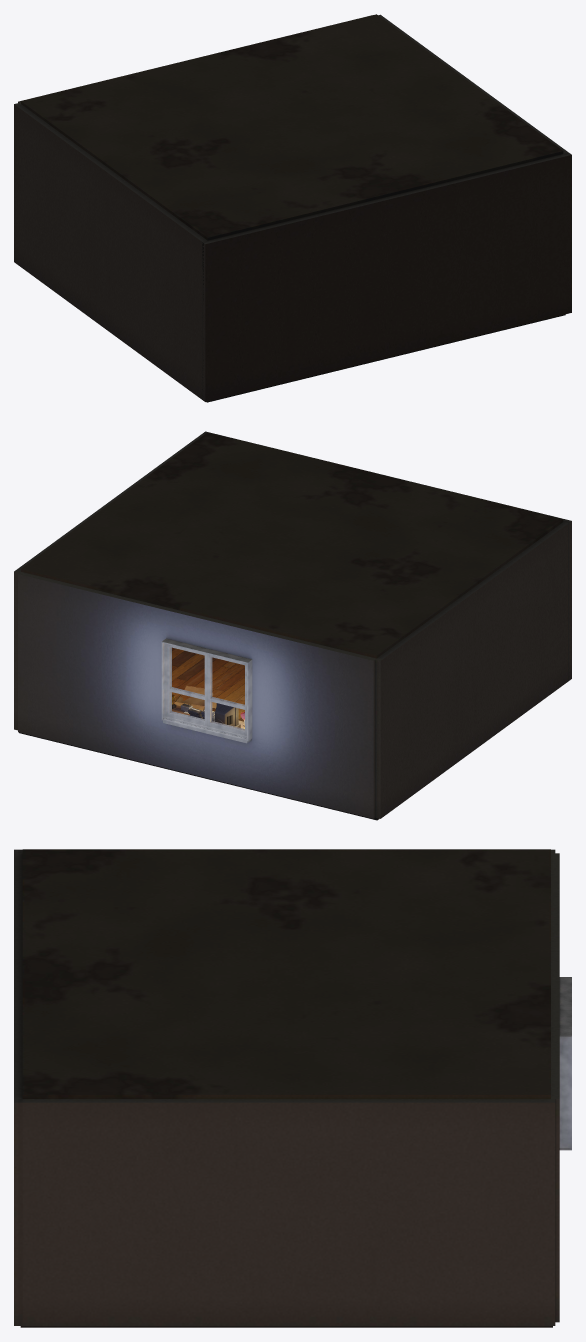
The model's file is sakina-room-gpu1.glb.
3 views of the same model, one above another, from view 1: azimuth 30°, elevation 25°; view 2: azimuth 150°, elevation 25°; view 3: azimuth 270°, elevation 25° (orthographic). The views are drawn at different scales.
Parts seen in each view (by area): view 1: Room_Shell; view 2: Room_Shell, Room_Window, Room_Floor; view 3: Room_Shell, Room_Window.
Boxes of the visible parts, <box> form: Room_Shell: <box>14,14,571,402</box>; Room_Shell: <box>14,431,571,820</box>; Room_Window: <box>161,638,252,743</box>; Room_Floor: <box>172,647,244,721</box>; Room_Shell: <box>14,849,559,1327</box>; Room_Window: <box>559,977,571,1150</box>.
Bounding box in the file's own units: 6.8 × 2.91 × 6.34.
12 materials, 12 textured.
